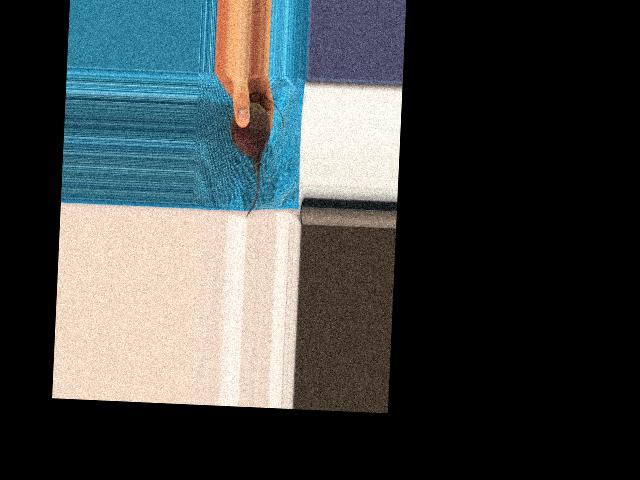beet: (226, 91, 284, 218)
